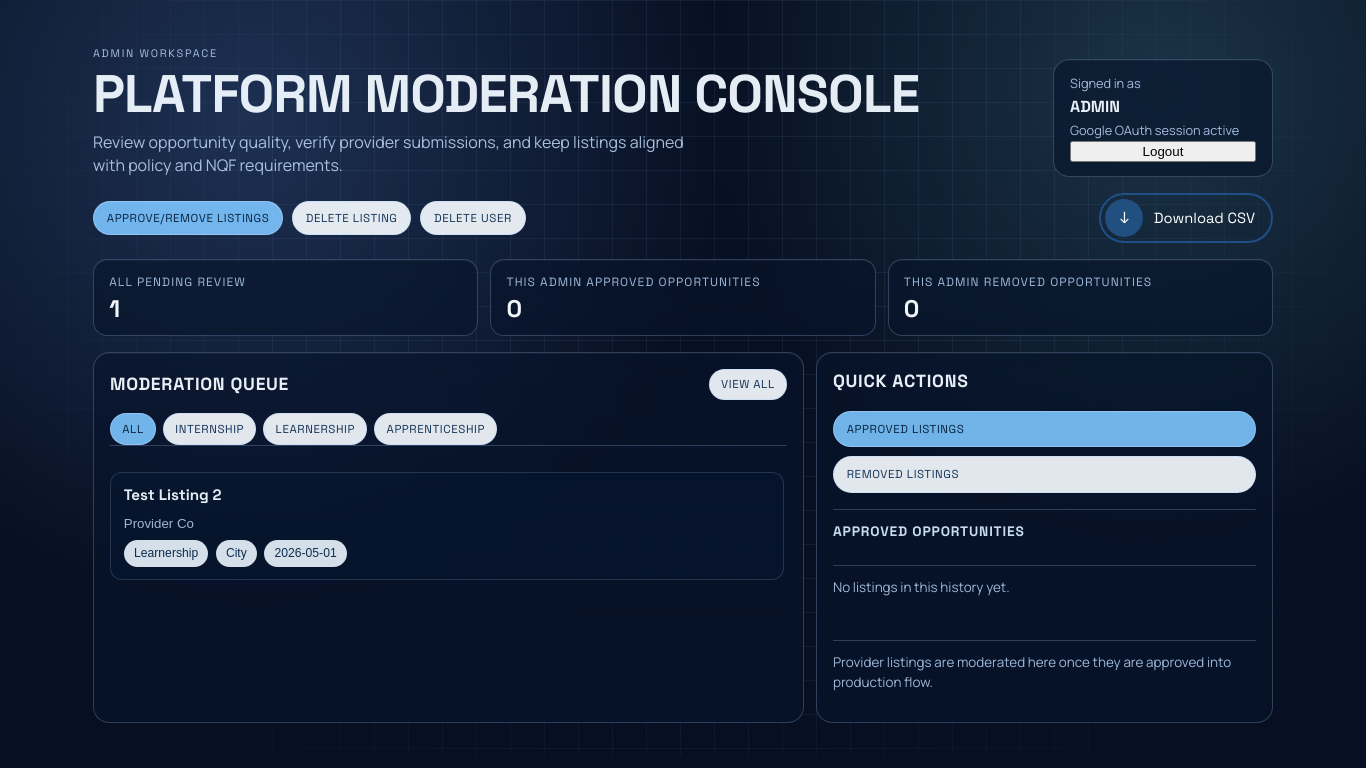
Test case: Admin moderation queue TDD tests › 18. cancel button in second modal closes the reason entry modal
// Click on listing to open first modal
Step 1. Click the heading "Test Listing 2" → (173, 494), box [124,485,222,504]
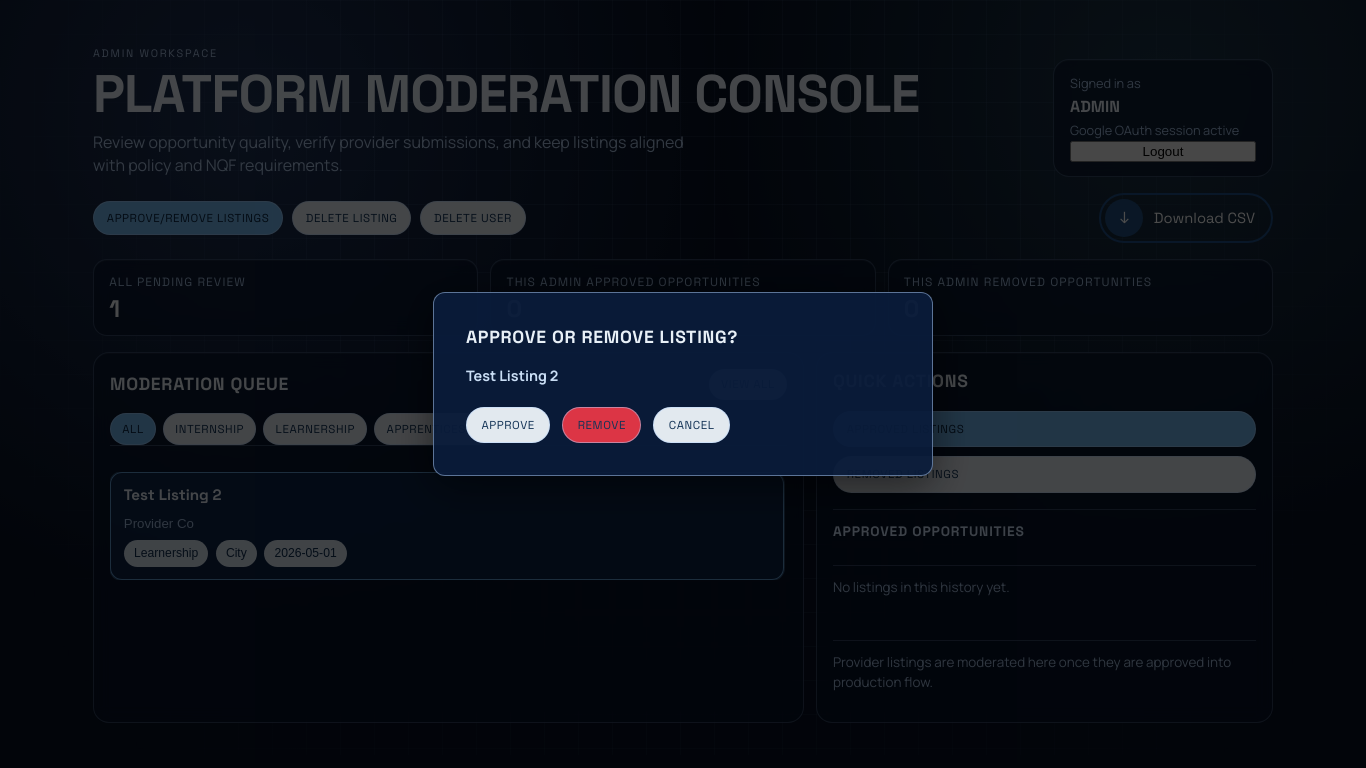
// Click Approve button to go to second modal
Step 2. Click the button "Approve" → (508, 425), box [466,407,550,444]
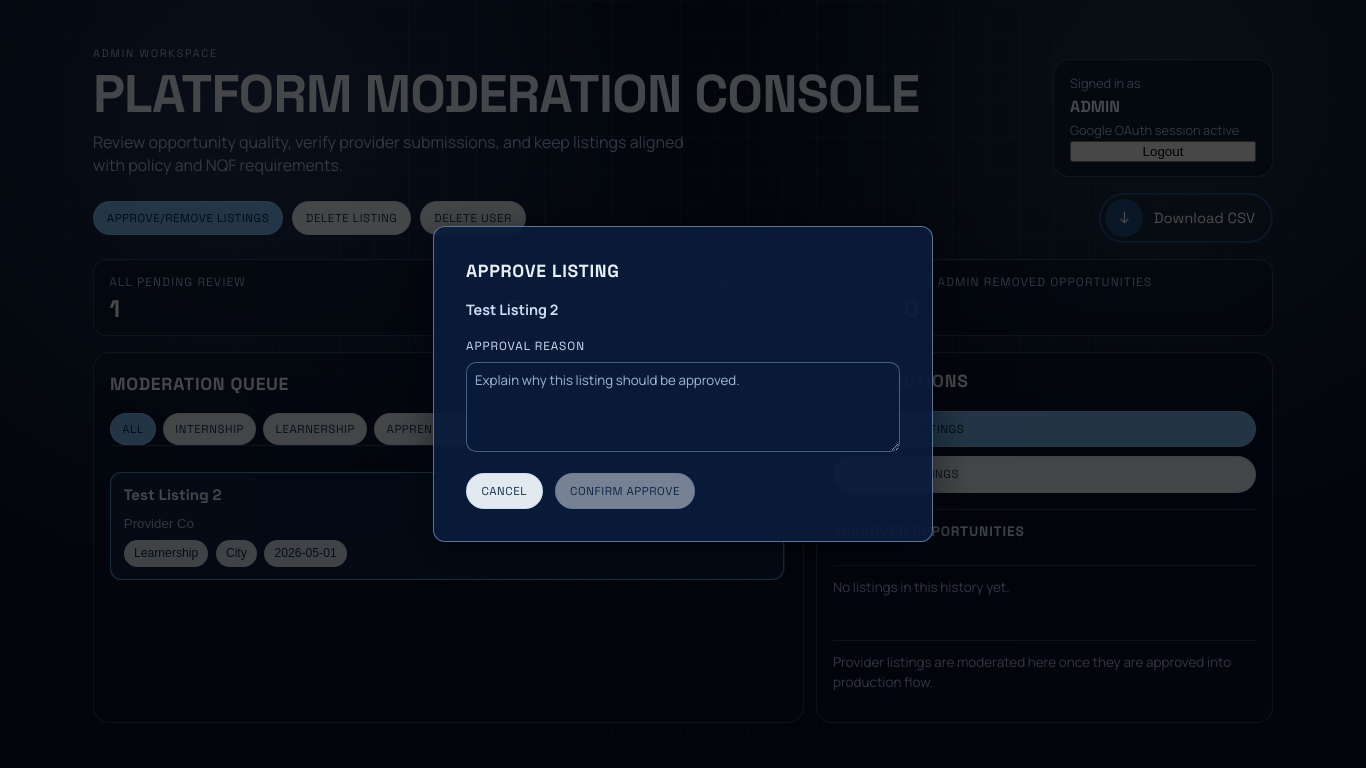
Expected: the text "Approval reason" is shown, [466,337,900,457]
// Find and click Cancel button in the second modal (by finding it within the second modal)
Step 3. Click the button "Cancel" → (504, 491), box [466,473,543,509]
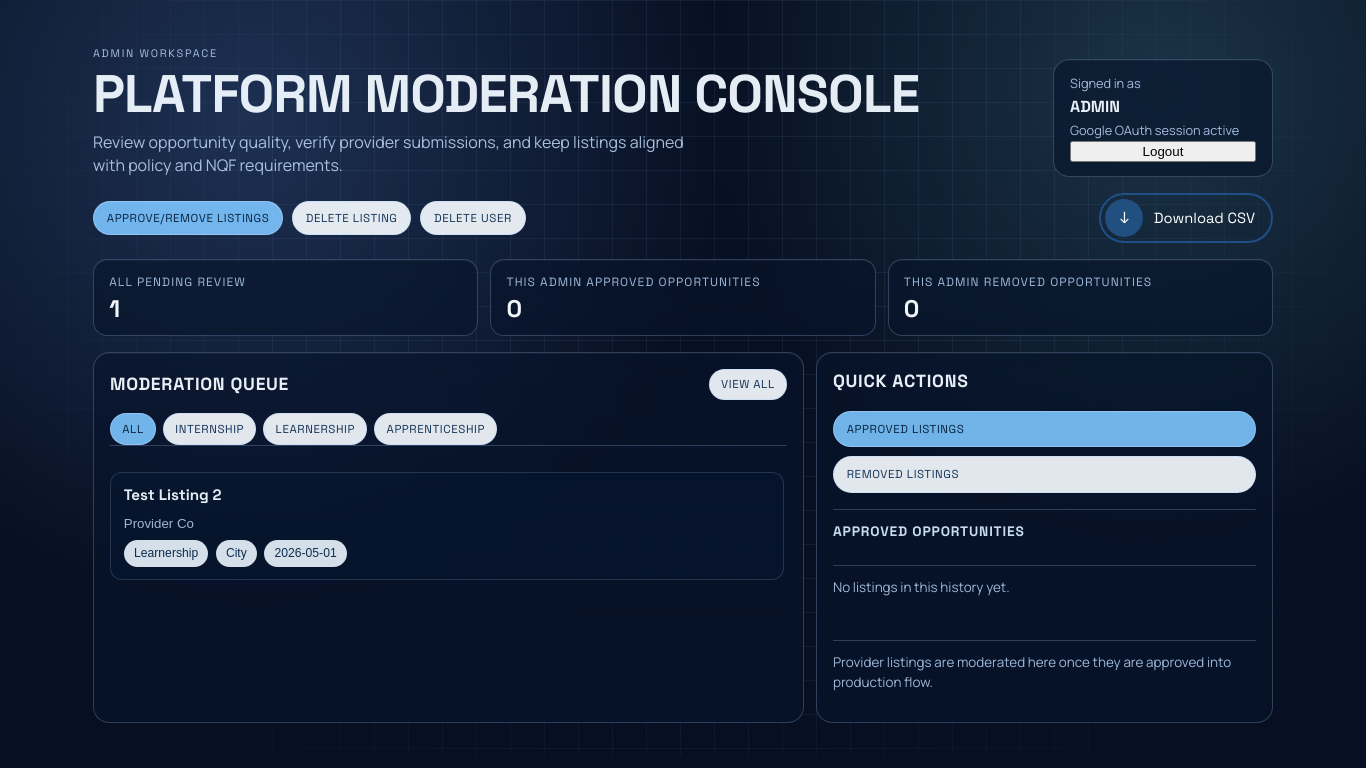
Expected: the text "Approval reason" is gone
